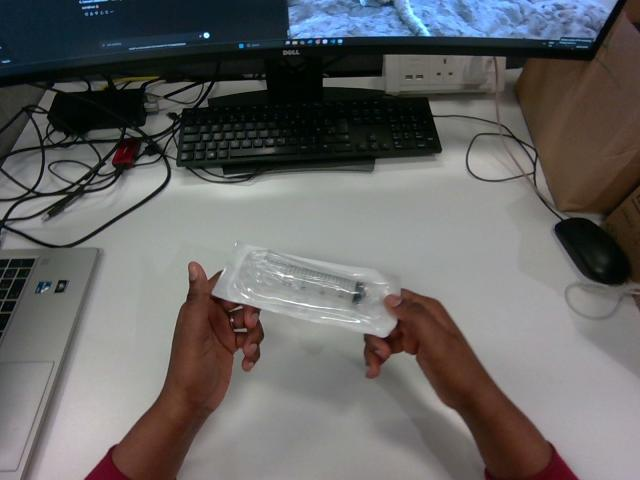syringe: (212, 243, 399, 336)
